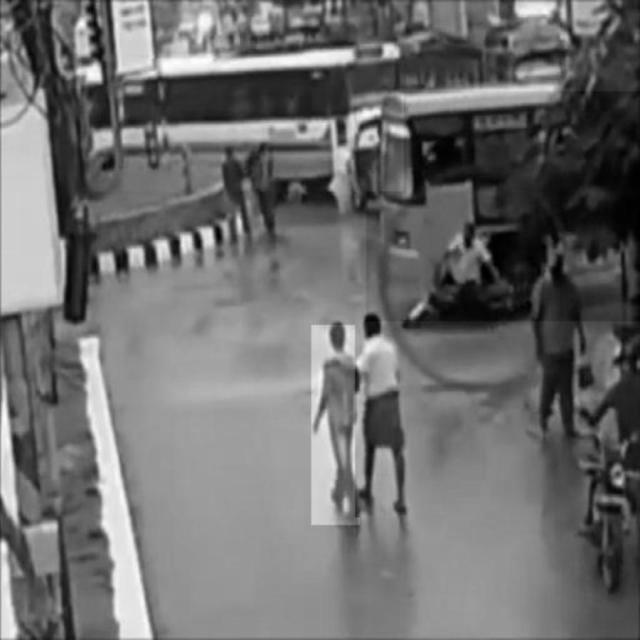accident: (367, 91, 640, 321)
person: (355, 313, 407, 518), (311, 325, 359, 525)
vehicle: (125, 59, 405, 191)
